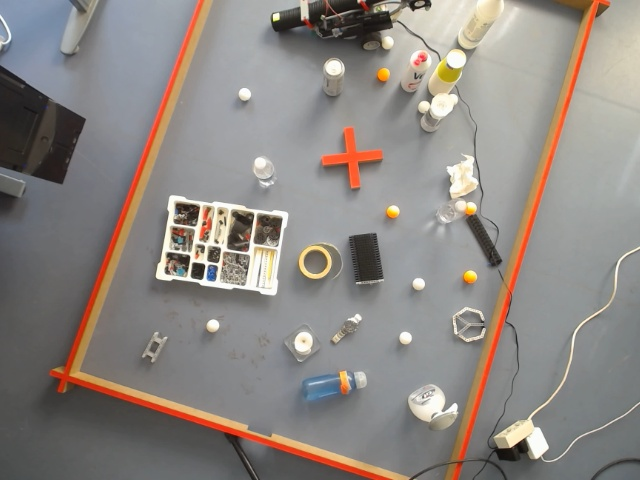orange: (461, 270, 478, 284), (376, 67, 390, 82)
white: (12, 0, 475, 283), (20, 0, 394, 204), (323, 57, 345, 84), (445, 48, 466, 69), (397, 330, 414, 347), (354, 371, 367, 391), (205, 319, 221, 335), (410, 277, 426, 293), (417, 100, 431, 113), (382, 34, 393, 49)
